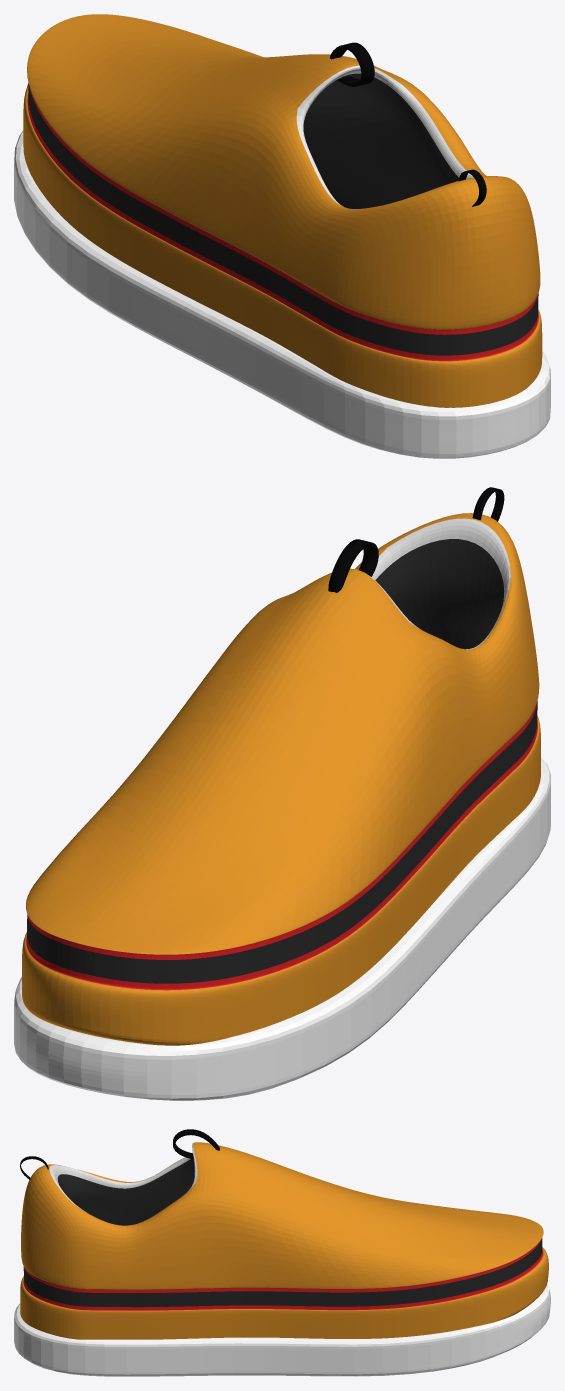
The model's file is myShoes.glb.
The picture shows the model from 3 angles, top to bottom: view 1: azimuth 30°, elevation 25°; view 2: azimuth 150°, elevation 25°; view 3: azimuth 270°, elevation 25°; orthographic projection. The views are drawn at different scales.
Visible parts, largest first — view 1: Body.004, Telapak.004, BezierCurve.004; view 2: Body.004, Telapak.004, BezierCurve.004; view 3: Body.004, Telapak.004, BezierCurve.004.
Part boxes in pixels (bbox=[...]): Body.004: bbox=[23, 14, 542, 407]; Telapak.004: bbox=[14, 130, 550, 458]; BezierCurve.004: bbox=[330, 42, 374, 86]; Body.004: bbox=[22, 513, 540, 1045]; Telapak.004: bbox=[14, 757, 550, 1100]; BezierCurve.004: bbox=[328, 539, 378, 592]; Body.004: bbox=[20, 1142, 548, 1339]; Telapak.004: bbox=[14, 1284, 550, 1376]; BezierCurve.004: bbox=[173, 1129, 219, 1159].
Size of the model in its own units: 1.71 by 2.08 by 4.73.
